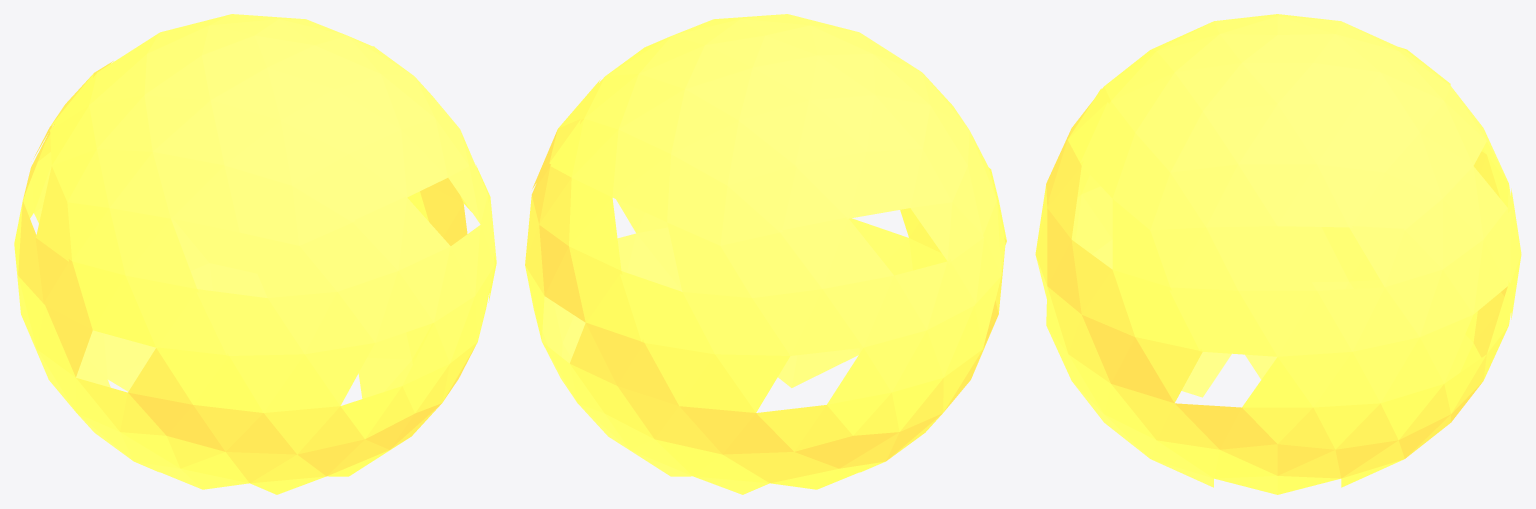
The model's file is Forest_Bannschild.fbx.
The picture shows the model from 3 angles, left to right: view 1: azimuth 30°, elevation 25°; view 2: azimuth 150°, elevation 25°; view 3: azimuth 270°, elevation 25°; orthographic projection.
Parts seen in each view (by area): view 1: Ward_Shell, Ward_Shard_7, Ward_Shard_6, Ward_Shard_1, Ward_Shard_2, Ward_Shard_5; view 2: Ward_Shell, Ward_Shard_2, Ward_Shard_3, Ward_Shard_1, Ward_Shard_4; view 3: Ward_Shell, Ward_Shard_5, Ward_Shard_4, Ward_Shard_6, Ward_Shard_3.
Boxes of the visible parts, x1,y1,x2,y2 form: Ward_Shell: (14, 14, 494, 494); Ward_Shard_7: (129, 279, 262, 400); Ward_Shard_6: (298, 133, 405, 265); Ward_Shard_1: (18, 207, 88, 326); Ward_Shard_2: (33, 61, 113, 158); Ward_Shard_5: (476, 165, 496, 302); Ward_Shell: (525, 14, 1005, 494); Ward_Shard_2: (733, 154, 863, 282); Ward_Shard_3: (570, 251, 676, 381); Ward_Shard_1: (931, 207, 1001, 326); Ward_Shard_4: (532, 79, 600, 188); Ward_Shell: (1035, 14, 1510, 494); Ward_Shard_5: (1115, 274, 1232, 398); Ward_Shard_4: (1322, 167, 1439, 281); Ward_Shard_6: (1048, 88, 1130, 201); Ward_Shard_3: (1487, 188, 1521, 319).
Bounding box in the file's own units: 2.01 × 1.89 × 2.01.
